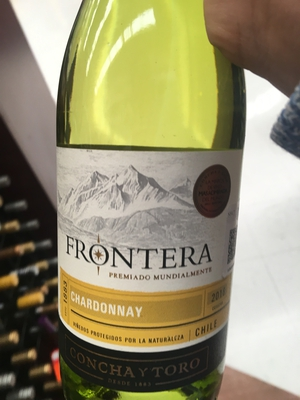frontera chardonnay: (48, 10, 244, 370)
